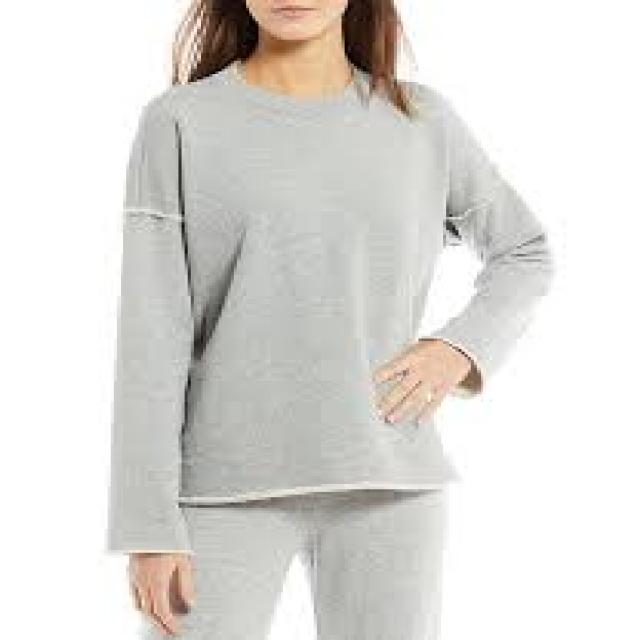plain: (94, 66, 562, 546)
